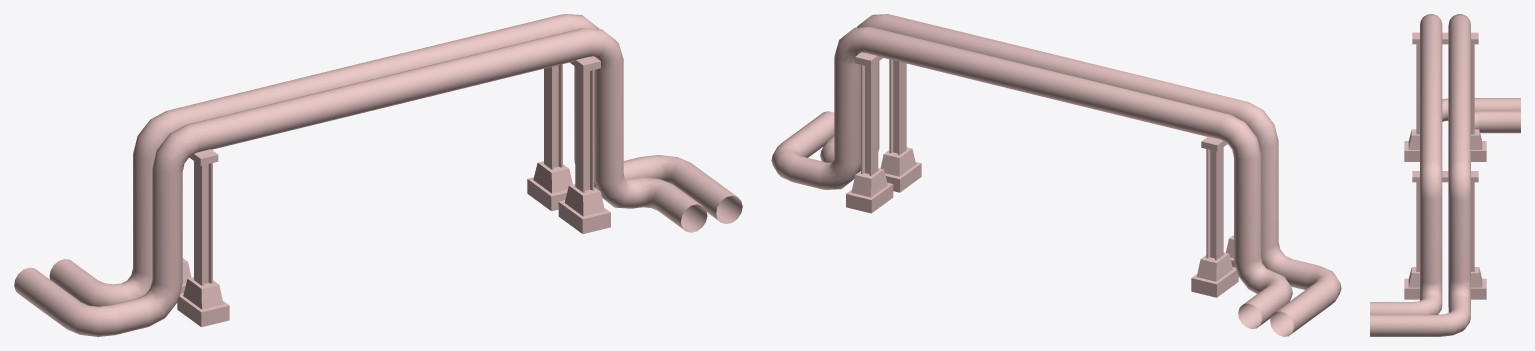
Rendered from Pipe Arch 01.fbx.
3 renders of one model, left to right at view 1: azimuth 30°, elevation 25°; view 2: azimuth 150°, elevation 25°; view 3: azimuth 270°, elevation 25°, orthographic. The views are drawn at different scales.
Parts seen in each view (by area): view 1: Pipe Arch 01; view 2: Pipe Arch 01; view 3: Pipe Arch 01.
Boxes of the visible parts, x1=… form: Pipe Arch 01: x1=14, y1=14, x2=742, y2=336; Pipe Arch 01: x1=771, y1=14, x2=1341, y2=336; Pipe Arch 01: x1=1370, y1=14, x2=1520, y2=336.
Bounding box in the file's own units: 35.5 × 10.24 × 10.
